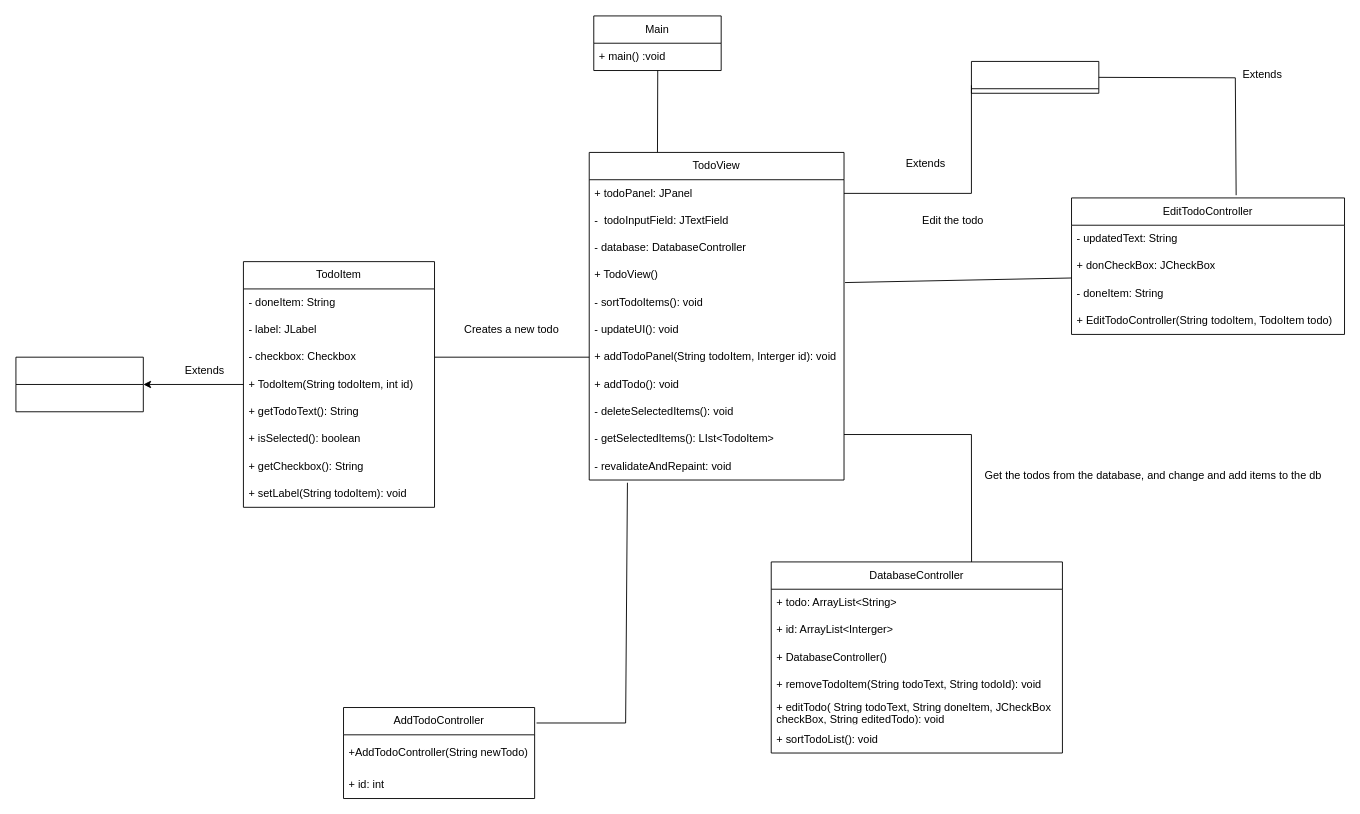
This 1360x814 diagram has some shape labels left out. Here are the shapes that lost their labels. From the top down, the centre of each, then its label:
At point 1035,77: "JFrame".
At point 79,384: "JPanel".
